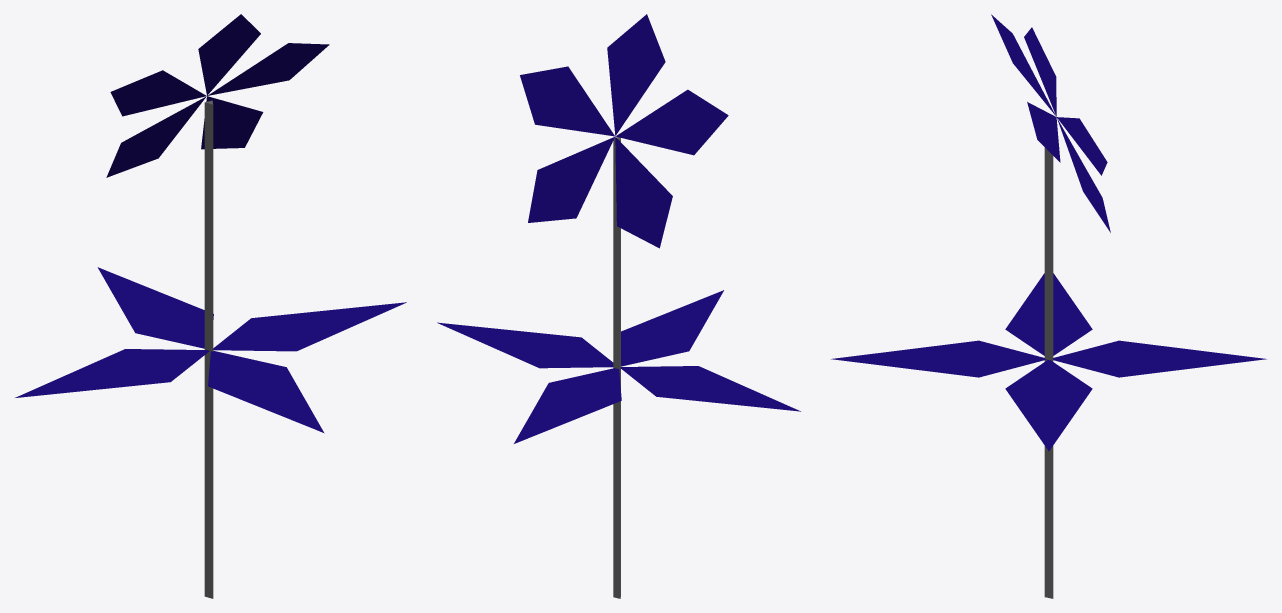
The model's file is Vine 0.obj.
The picture shows the model from 3 angles, left to right: view 1: azimuth 30°, elevation 25°; view 2: azimuth 150°, elevation 25°; view 3: azimuth 270°, elevation 25°; orthographic projection. The views are drawn at different scales.
Parts seen in each view (by area): view 1: plant; view 2: plant; view 3: plant.
Part boxes in pixels (x1,y1,x2,y2): plant: (15,14,406,598); plant: (437,14,800,598); plant: (831,14,1266,598).
Bounding box in the file's own units: 5 × 7.35 × 5.
